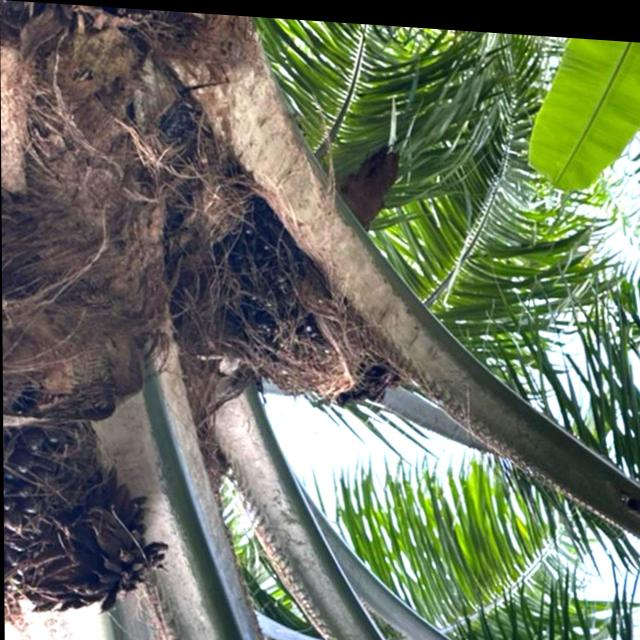unripe: (213, 195, 394, 411), (2, 415, 178, 631)
